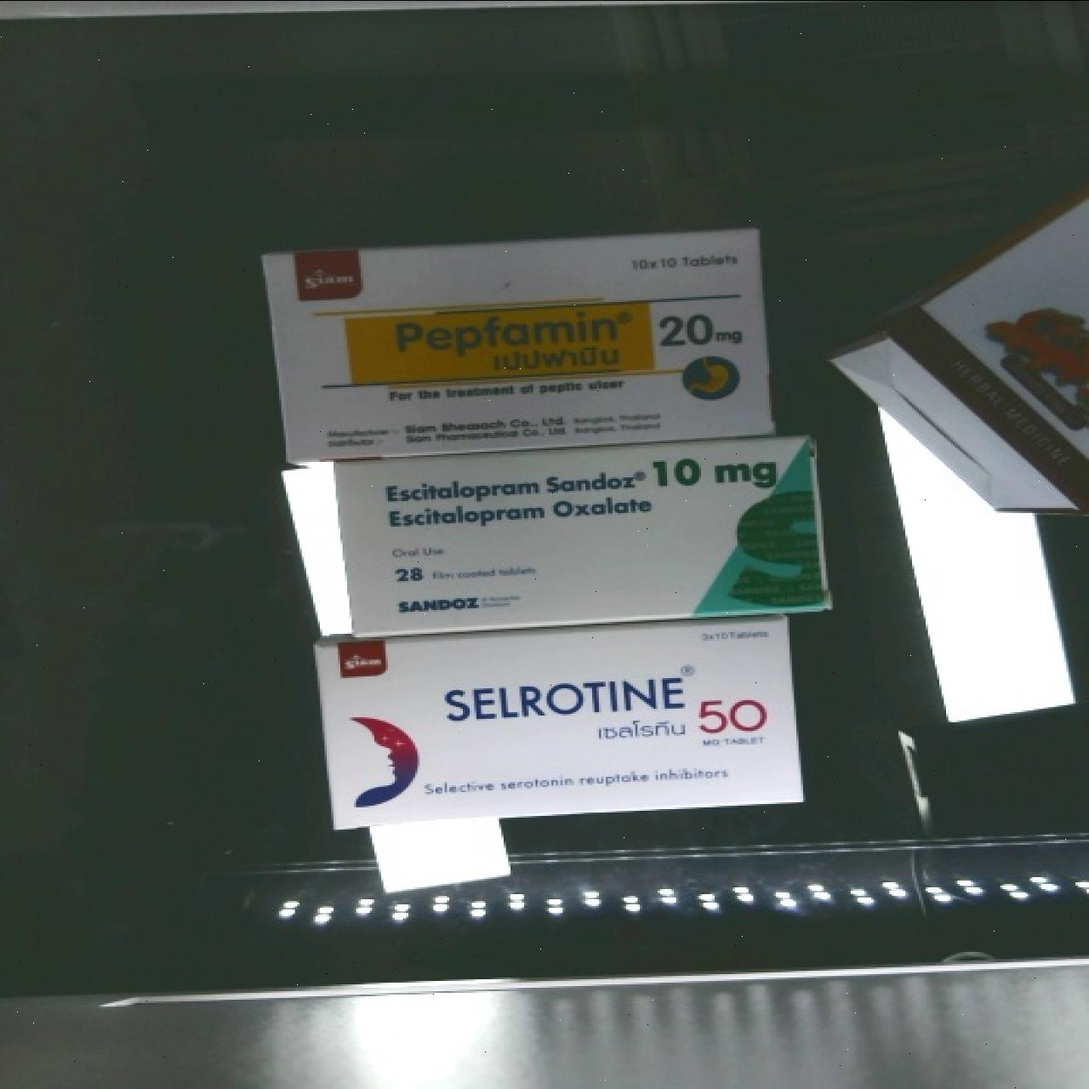medicine_label_obb: (361, 440, 796, 544), (428, 649, 776, 759), (353, 293, 759, 385)
